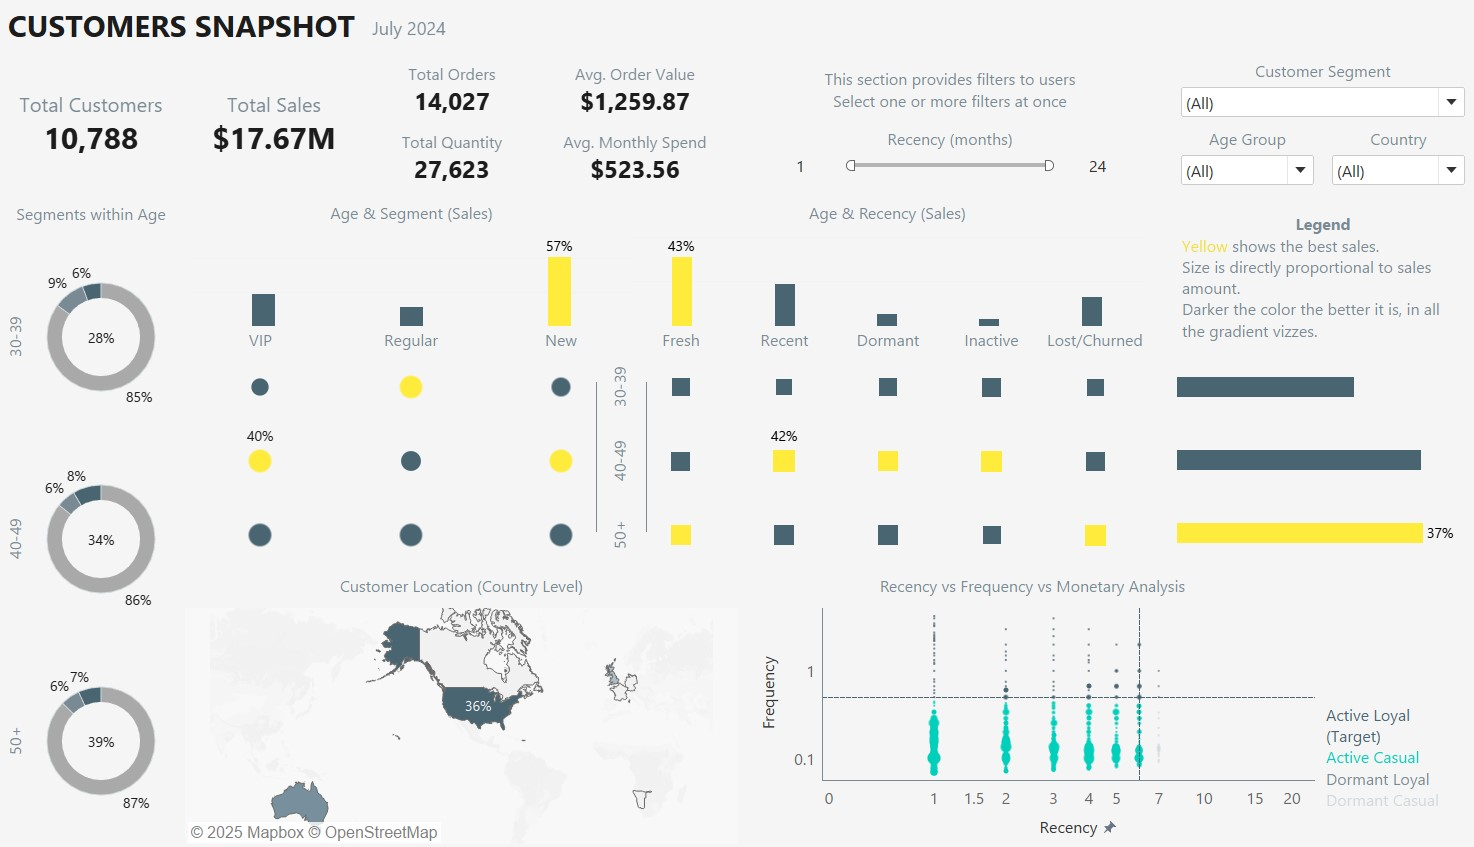

The page's visual inventory and layout, read from the dashboard file:
{"tool":"tableau","page":{"name":"Customer Snapshot","canvas":[1500,870],"ordinal":0},"visuals":[{"type":"title","box":[12,12,1476,48]},{"type":"worksheet","title":"Current Month","mark":"Automatic","box":[380,23,285,31]},{"type":"worksheet","title":"Total Customers","mark":"Automatic","box":[18,71,170,128]},{"type":"worksheet","title":"Total Sales","mark":"Automatic","box":[201,71,170,128]},{"type":"worksheet","title":"Total Orders","mark":"Automatic","box":[379,71,170,60]},{"type":"worksheet","title":"Avg Order Value","mark":"Automatic","box":[562,71,170,60]},{"type":"text","box":[771,71,382,60]},{"type":"filter","title":"Total Customers","param":"[federated.01ng4zx0pgjx1h1ej192u1oitzen].[none:customer_segment:nk]","box":[1190,71,290,60]},{"type":"worksheet","title":"Total Quantity","mark":"Automatic","box":[379,139,170,60]},{"type":"worksheet","title":"Avg Monthly Spend","mark":"Automatic","box":[562,139,170,60]},{"type":"filter","title":"Total Customers","param":"[federated.01ng4zx0pgjx1h1ej192u1oitzen].[none:recency:qk]","box":[771,139,382,60]},{"type":"filter","title":"Total Customers","param":"[federated.01ng4zx0pgjx1h1ej192u1oitzen].[none:age_group:nk]","box":[1190,139,139,60]},{"type":"filter","title":"Total Customers","param":"[federated.01ng4zx0pgjx1h1ej192u1oitzen].[none:country:nk]","box":[1341,139,139,60]},{"type":"worksheet","title":"Segment-wise distribution","mark":"Bar","rows":["customer_key"],"cols":["customer_segment"],"box":[201,209,445,129]},{"type":"worksheet","title":"Recency buckets distribution","mark":"Bar","rows":["customer_key"],"cols":["Calculation_2302746849601585158"],"box":[643,209,513,129]},{"type":"worksheet","title":"Cust Segmentation","mark":"Pie","rows":["age_group"],"cols":["Calculation_2302746849353383940","Calculation_2302746849353383940"],"box":[18,210,170,643]},{"type":"text","box":[1190,222,290,136]},{"type":"worksheet","title":"Age vs Segment","mark":"Shape","rows":["age_group"],"cols":["customer_segment"],"box":[197,341,452,242]},{"type":"worksheet","title":"Age vs Recency bins","mark":"Square","rows":["age_group"],"cols":["Calculation_2302746849601585158"],"box":[621,341,538,242]},{"type":"worksheet","title":"Age-wise distribution","mark":"Bar","rows":["age_group"],"cols":["customer_key"],"box":[1188,361,295,221]},{"type":"blank","box":[608,393,1,150]},{"type":"blank","box":[658,393,1,150]},{"type":"worksheet","title":"Map Distribution","mark":"Automatic","box":[197,582,553,274]},{"type":"worksheet","title":"Recency vs Frequency","mark":"Automatic","rows":["Calculation_2302746849636757519"],"cols":["recency"],"box":[762,582,565,274]},{"type":"text","box":[1334,702,149,92]}]}

Visuals, with their boxes in screenshot pixels (x1, y1, x2, y2), scaled from the page's 1500x870 canvas onto the 1474x847 screenshot:
title: bbox=(12, 12, 1462, 58)
"Current Month" worksheet: bbox=(373, 22, 653, 53)
"Total Customers" worksheet: bbox=(18, 69, 185, 194)
"Total Sales" worksheet: bbox=(198, 69, 365, 194)
"Total Orders" worksheet: bbox=(372, 69, 539, 128)
"Avg Order Value" worksheet: bbox=(552, 69, 719, 128)
text: bbox=(758, 69, 1133, 128)
"Total Customers" filter: bbox=(1169, 69, 1454, 128)
"Total Quantity" worksheet: bbox=(372, 135, 539, 194)
"Avg Monthly Spend" worksheet: bbox=(552, 135, 719, 194)
"Total Customers" filter: bbox=(758, 135, 1133, 194)
"Total Customers" filter: bbox=(1169, 135, 1306, 194)
"Total Customers" filter: bbox=(1318, 135, 1454, 194)
"Segment-wise distribution" worksheet (Bar marks): bbox=(198, 203, 635, 329)
"Recency buckets distribution" worksheet (Bar marks): bbox=(632, 203, 1136, 329)
"Cust Segmentation" worksheet (Pie marks): bbox=(18, 204, 185, 830)
text: bbox=(1169, 216, 1454, 349)
"Age vs Segment" worksheet (Shape marks): bbox=(194, 332, 638, 568)
"Age vs Recency bins" worksheet (Square marks): bbox=(610, 332, 1139, 568)
"Age-wise distribution" worksheet (Bar marks): bbox=(1167, 351, 1457, 567)
blank: bbox=(597, 383, 598, 529)
blank: bbox=(647, 383, 648, 529)
"Map Distribution" worksheet: bbox=(194, 567, 737, 833)
"Recency vs Frequency" worksheet: bbox=(749, 567, 1304, 833)
text: bbox=(1311, 683, 1457, 773)
